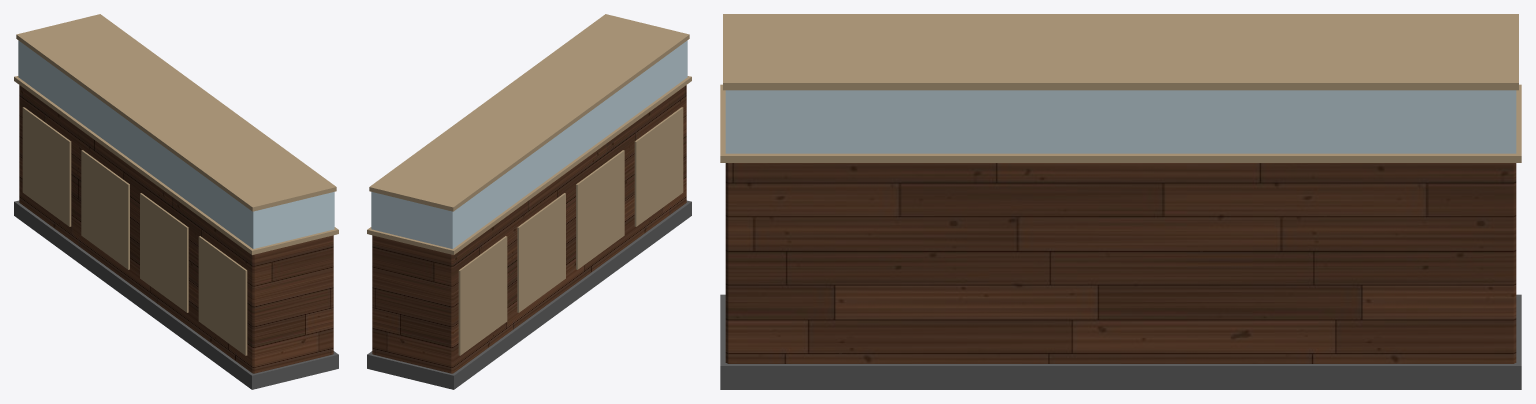
The model's file is counter.glb.
3 renders of one model, left to right at view 1: azimuth 30°, elevation 25°; view 2: azimuth 150°, elevation 25°; view 3: azimuth 270°, elevation 25°, orthographic. The views are drawn at different scales.
Parts seen in each view (by area): view 1: counter_bronze, counter_wood, counter_glass, counter_dark; view 2: counter_bronze, counter_wood, counter_glass, counter_dark; view 3: counter_wood, counter_bronze, counter_glass, counter_dark.
Boxes of the visible parts, x1,y1,x2,y2 form: counter_bronze: [14, 14, 338, 355]; counter_wood: [19, 85, 333, 373]; counter_glass: [18, 40, 334, 248]; counter_dark: [14, 200, 338, 389]; counter_bronze: [367, 14, 691, 355]; counter_wood: [372, 85, 686, 373]; counter_glass: [371, 40, 687, 248]; counter_dark: [367, 200, 691, 389]; counter_wood: [725, 163, 1516, 363]; counter_bronze: [720, 14, 1521, 162]; counter_glass: [725, 90, 1516, 153]; counter_dark: [720, 294, 1521, 389].
Bounding box in the file's own units: 0.64 × 1.28 × 3.04.
Materials: 4 (1 with a texture image).
